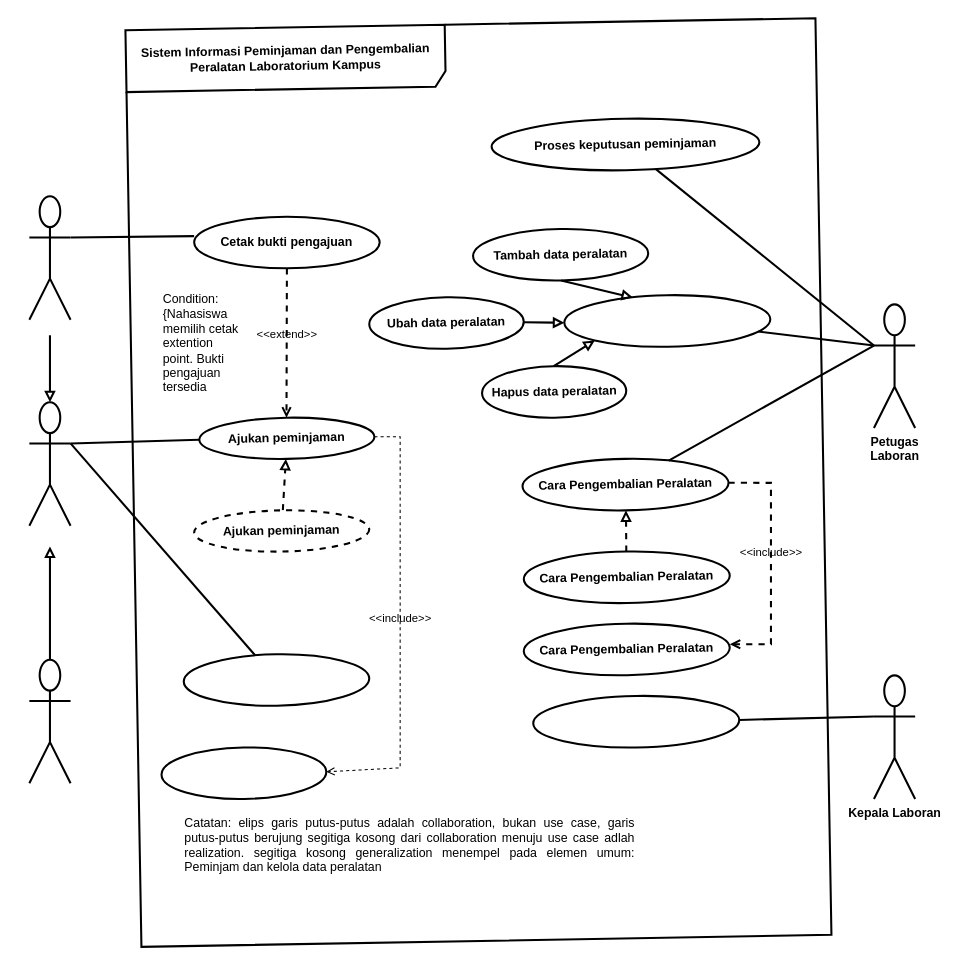
The diagram is 959 pixels wide and 966 high, and some of its shapes have lost their labels. The centre of each missing label's shape, as x and y in pixels:
"Dosen" belongs at point (49, 721).
"Kelola data peralatan" belongs at point (666, 320).
"Lihat Ketersediaan Peralatan" belongs at point (276, 679).
"Lihat laporan peminjaman" belongs at point (635, 721).
"Mahasiswa" belongs at point (49, 257).
"Peminjam" belongs at point (49, 463).
"Periksa ketersediaan" belongs at point (243, 772).
